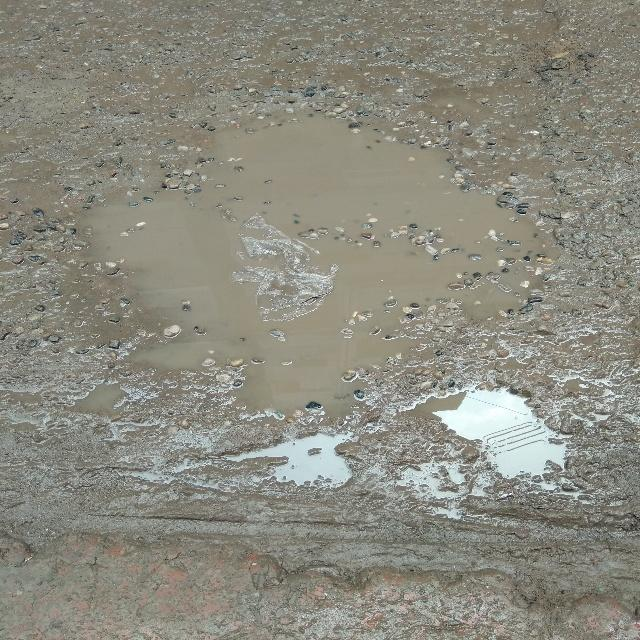Surface Erosion: (14, 40, 640, 589)
